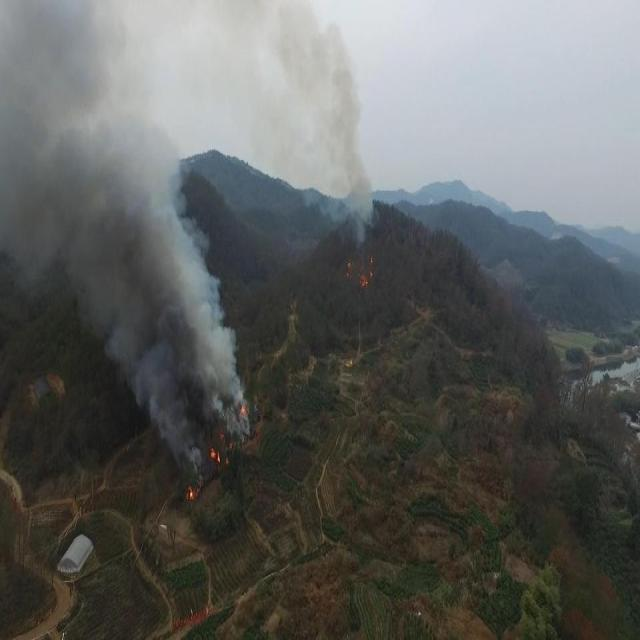Fire: (208, 444, 230, 472), (358, 251, 374, 287), (184, 482, 198, 502)
Smoke: (1, 1, 380, 479)
